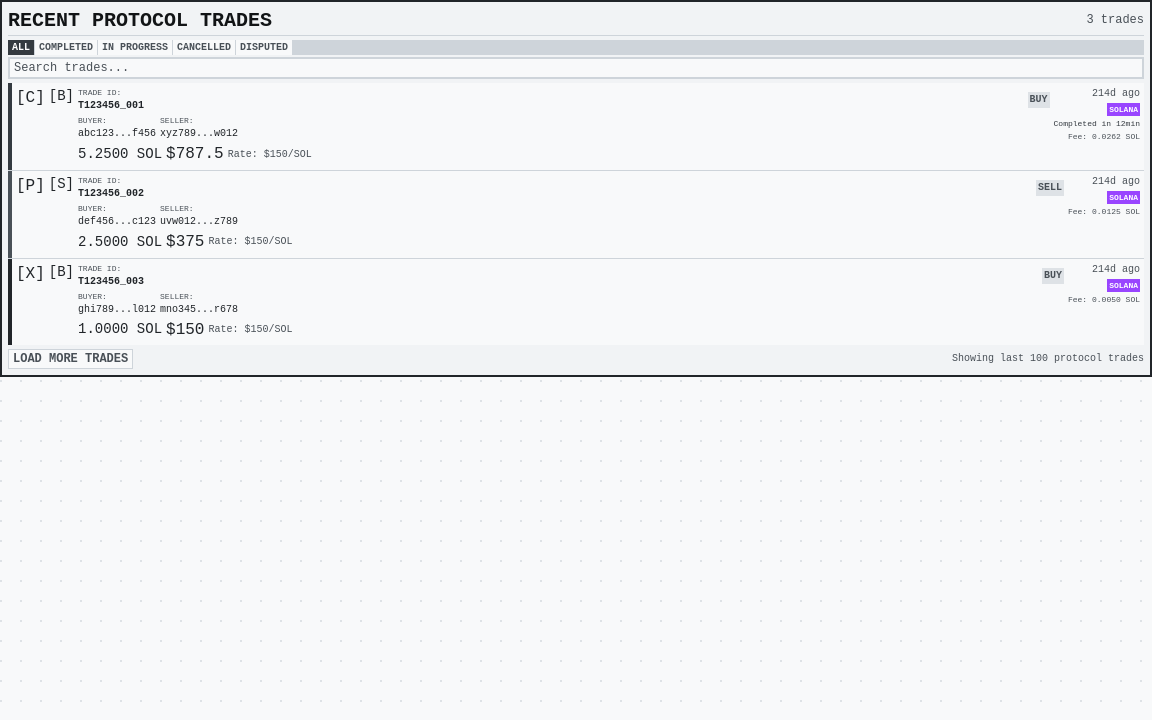
it: RecentTrades › filters trades by in progress status
// Click on In Progress filter
Step 1. Click the button "In Progress" → (135, 48), box [98, 40, 172, 55]
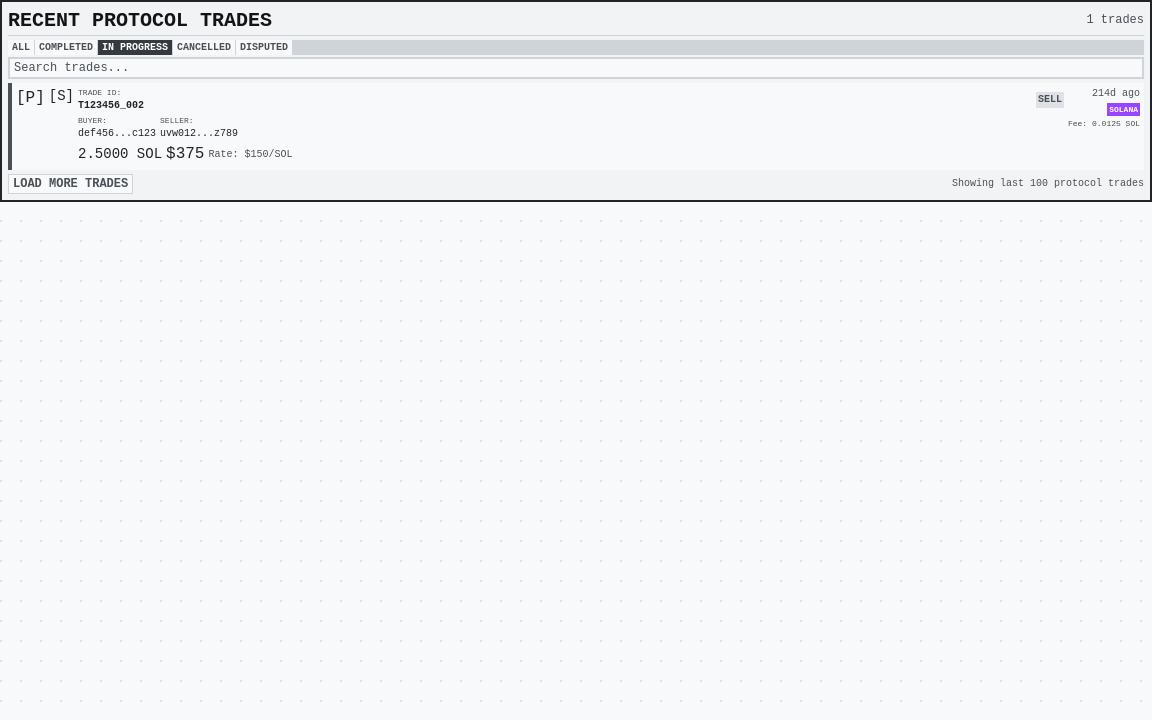
Now the text "1 trades" is shown, box [1086, 13, 1144, 27]
Now the text "T123456_001" is gone
Now the text "T123456_003" is gone
